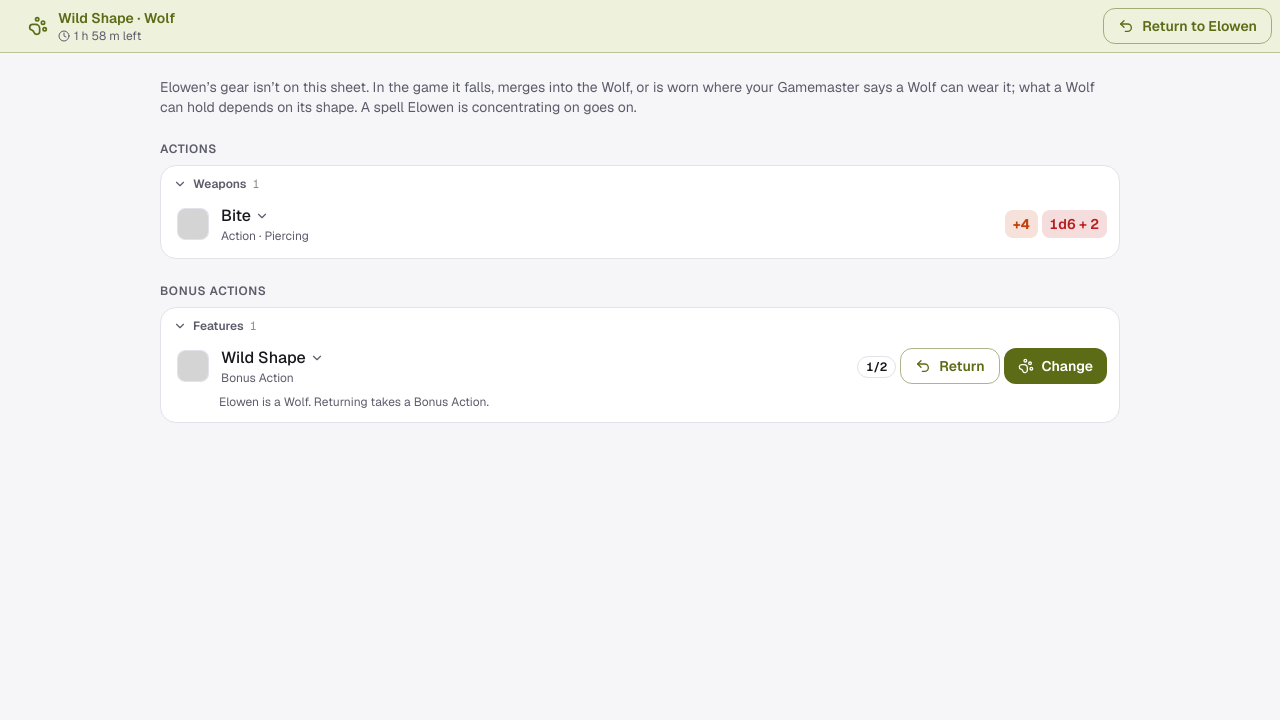
Test: components/character-sheet/wild-shape: the picker, from module 0.40.0 › moves the check with the arrows, wrapping, skipping the cards not offered
Click the button "Change" at {"x": 1055, "y": 366}, box [1004,348,1107,384]
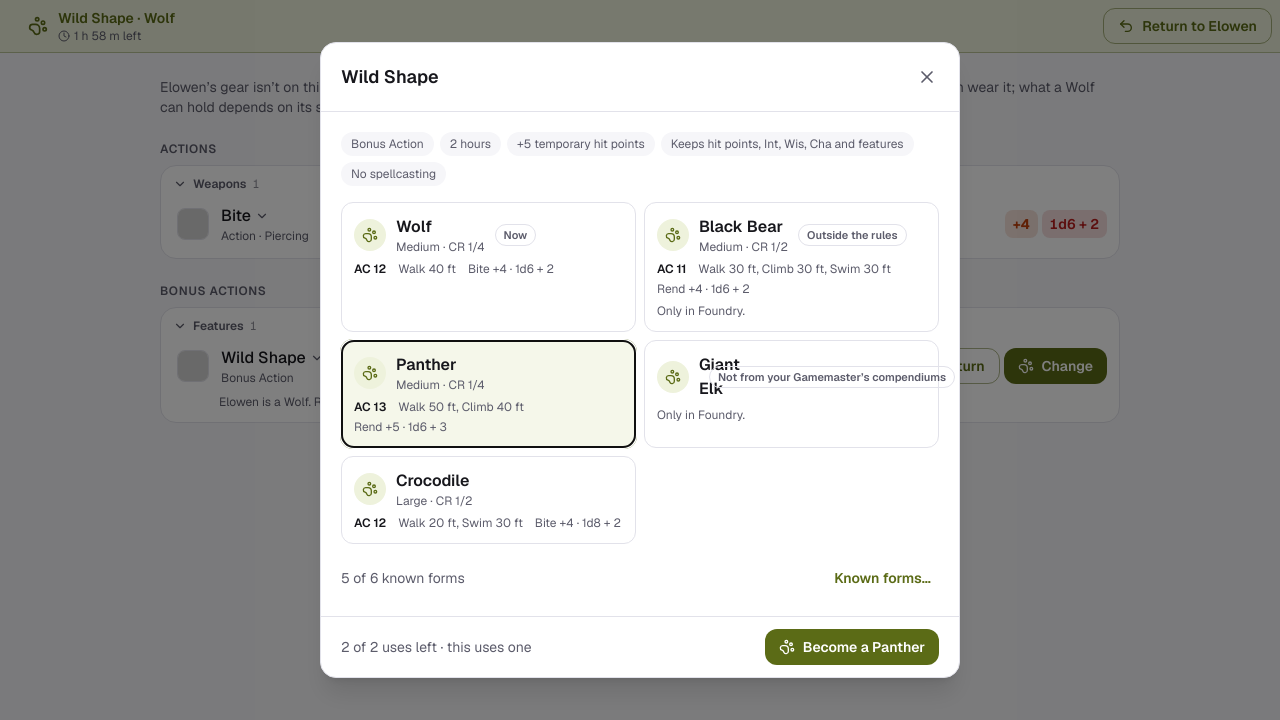
Press Arrowdown
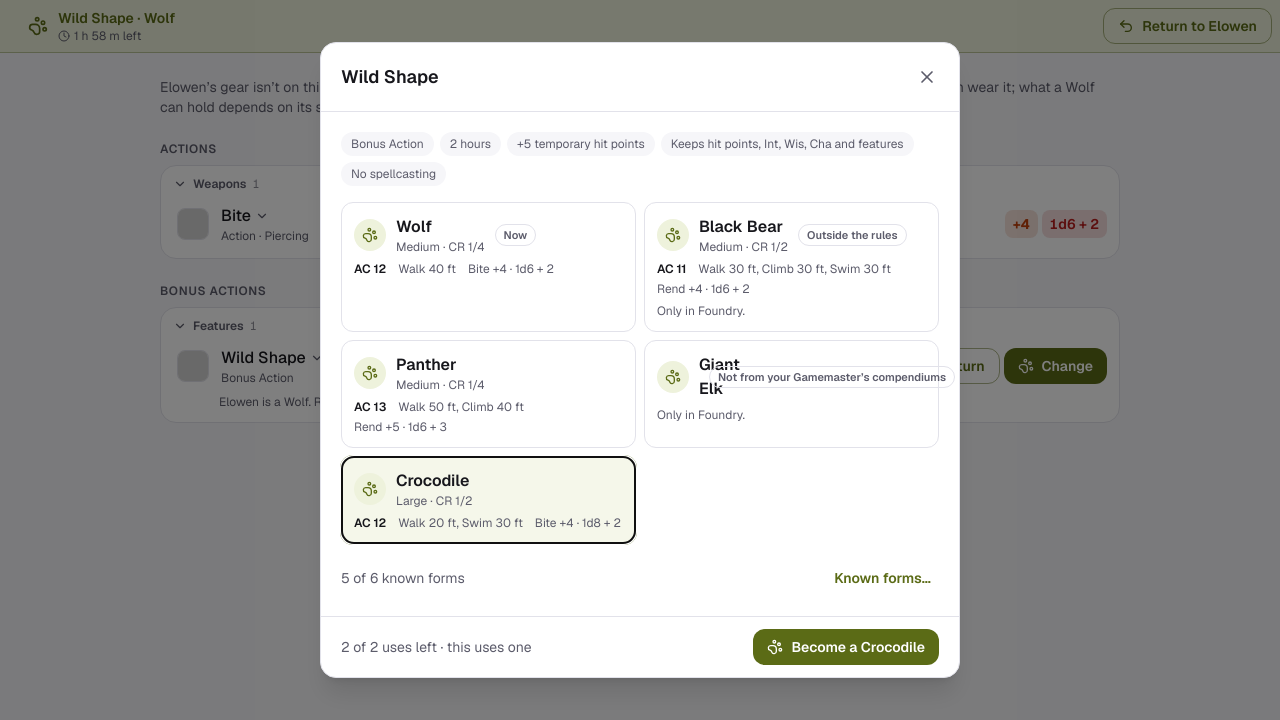
Now the radio button labelled "Panther" is not checked, box [341,340,636,448]
Now the radio button labelled "Panther" has attribute tabindex="-1", box [341,340,636,448]
Press Arrowright
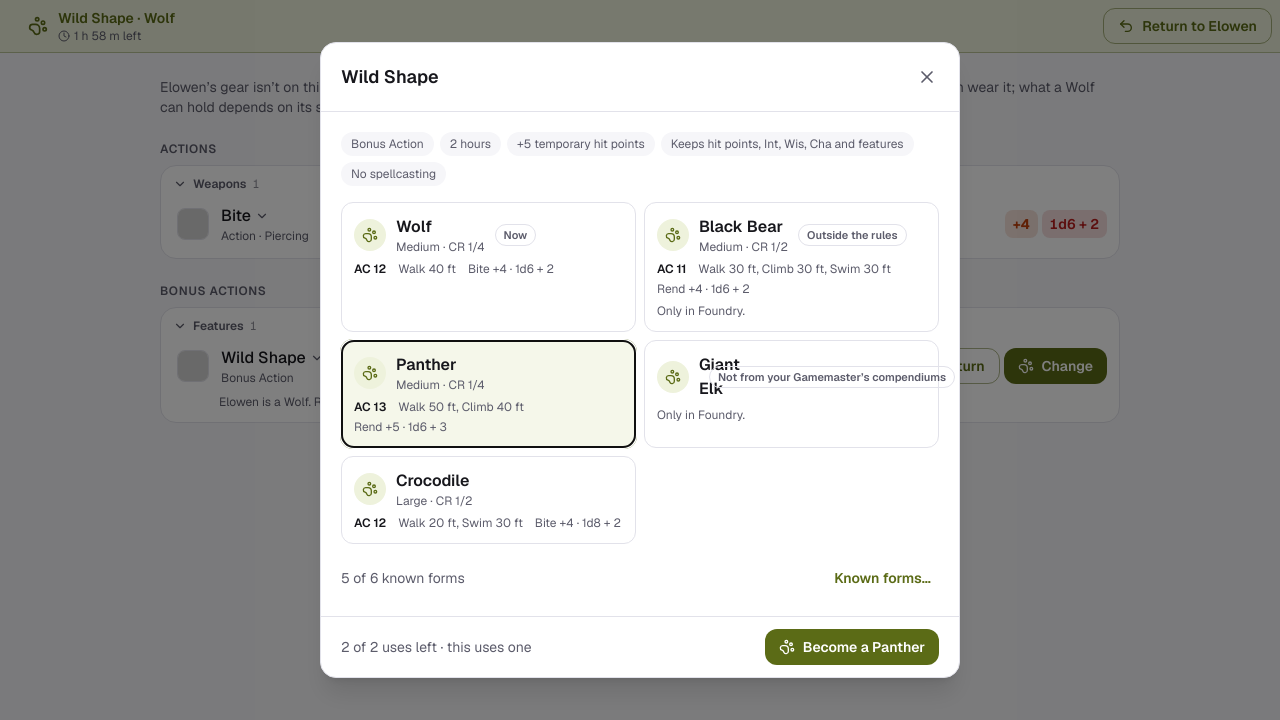
Press Arrowup
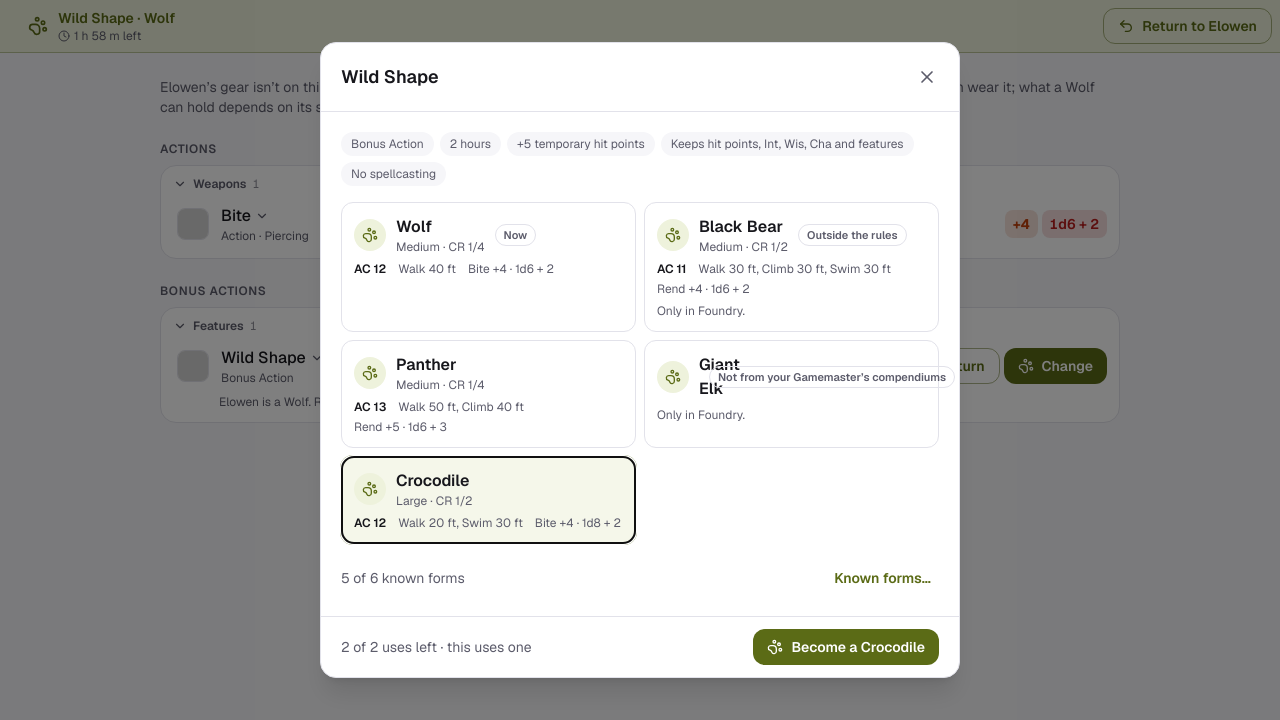
Press Arrowleft
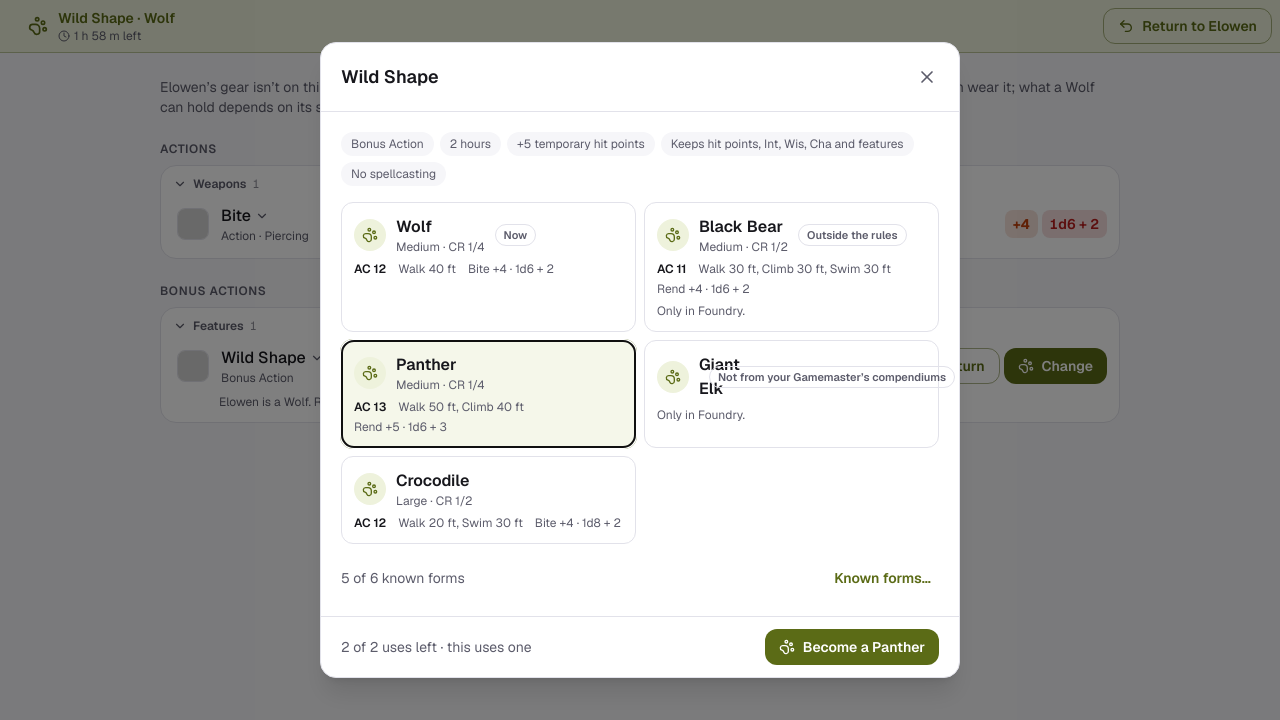
Now the button "Become a Panther" is shown, box [765,629,939,665]
